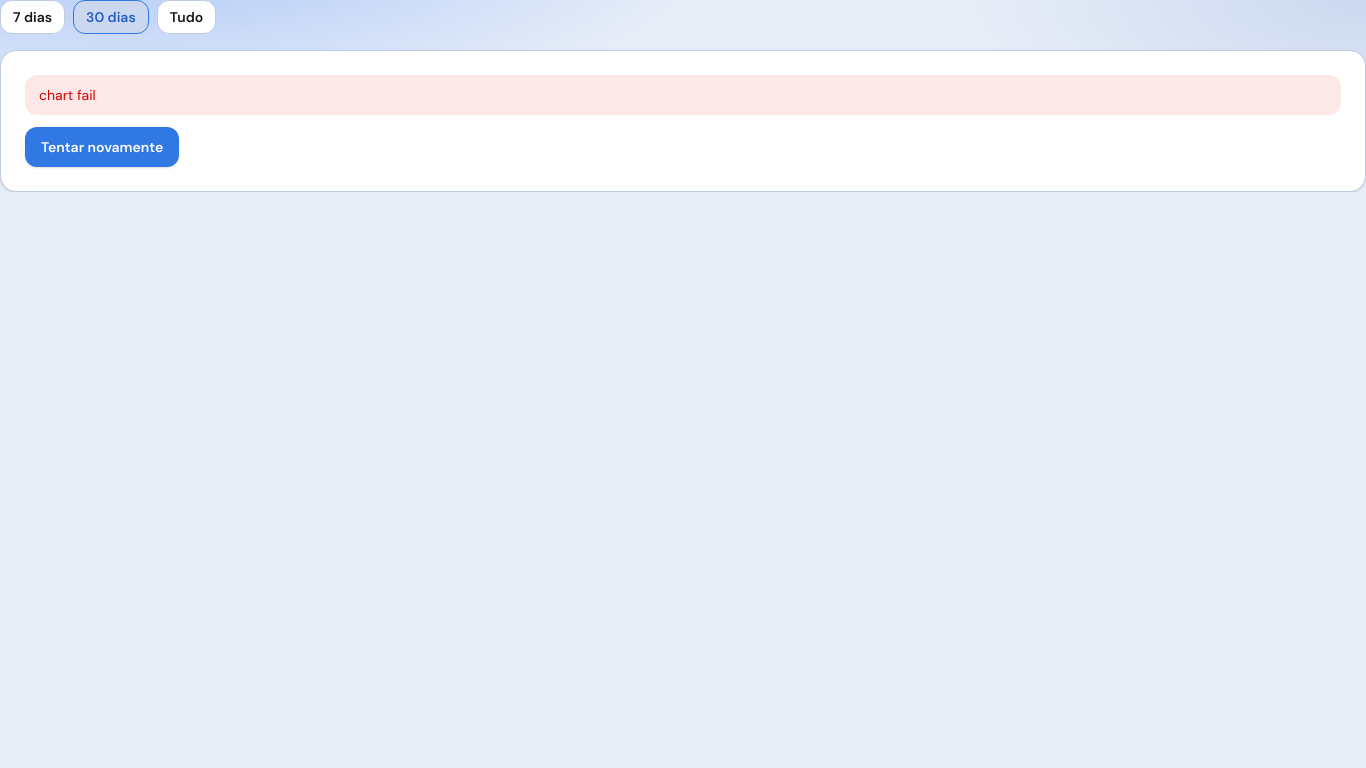
PatientCharts › shows error and retries
Expected: the text "chart fail" is shown, [39, 86, 96, 104]
Click the button "Tentar novamente": (102, 147) [25, 127, 179, 167]
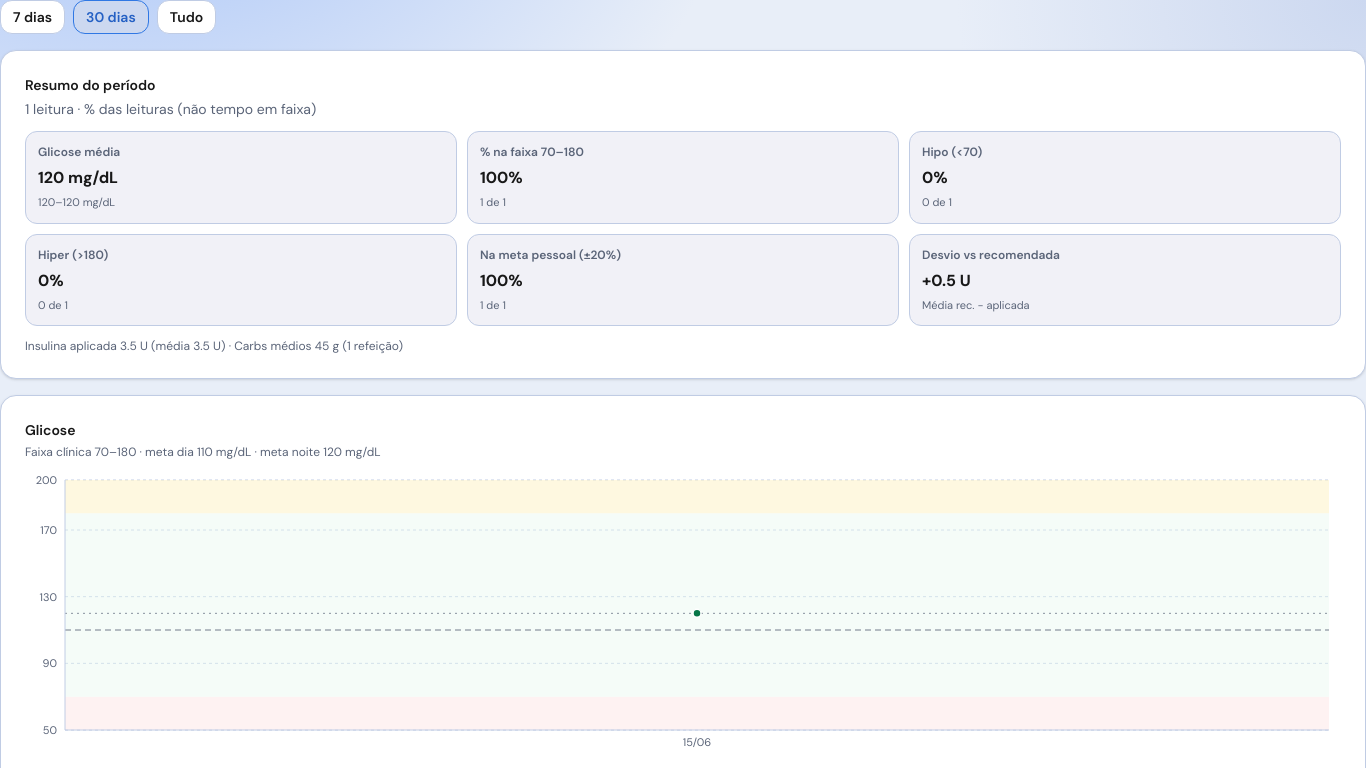
Now the heading "Resumo do período" is shown, box [25, 76, 156, 94]
